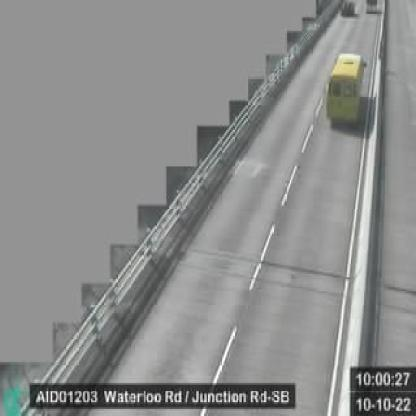Bus: (327, 51, 364, 128)
